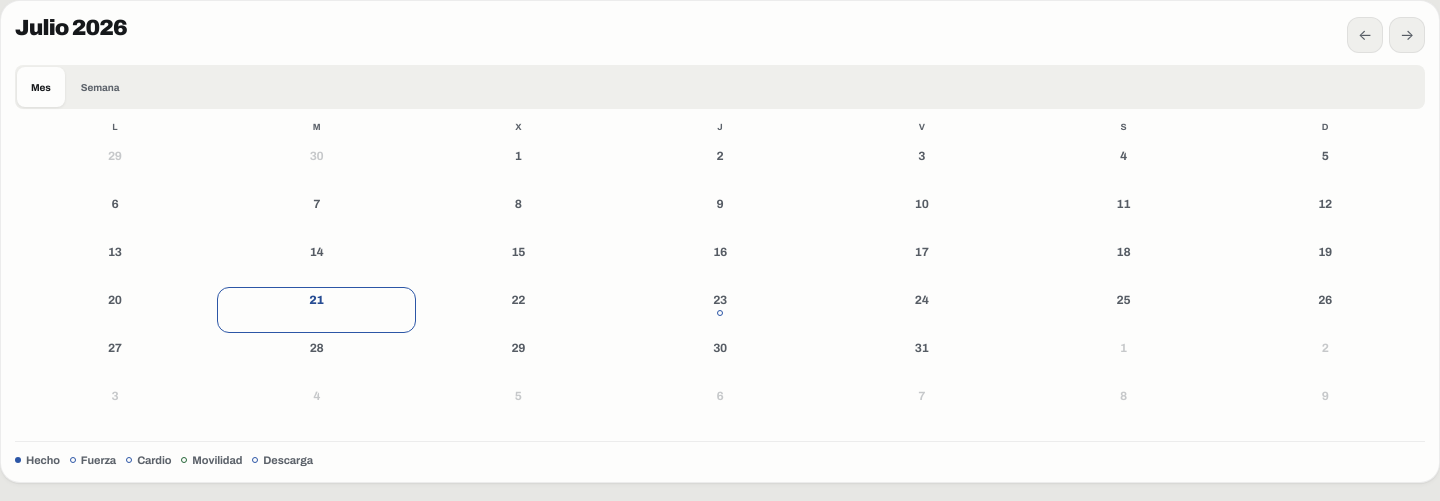
Scenario: Calendar — vista semana › muestra de qué se compone una sesión vinculada a un día de rutina
The image size is (1440, 501).
Click the tab "Semana" at (100, 87), box [67, 67, 133, 107]
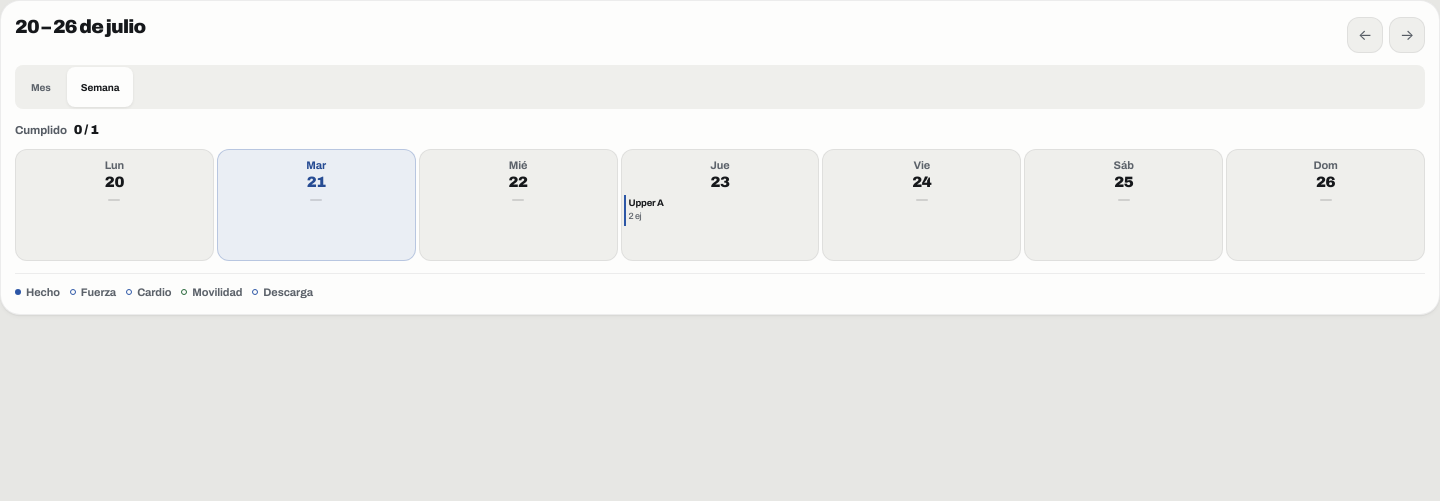
Now the text "Upper A" is shown, box [629, 198, 664, 208]
Now the text "2 ej" is shown, box [629, 211, 641, 221]
